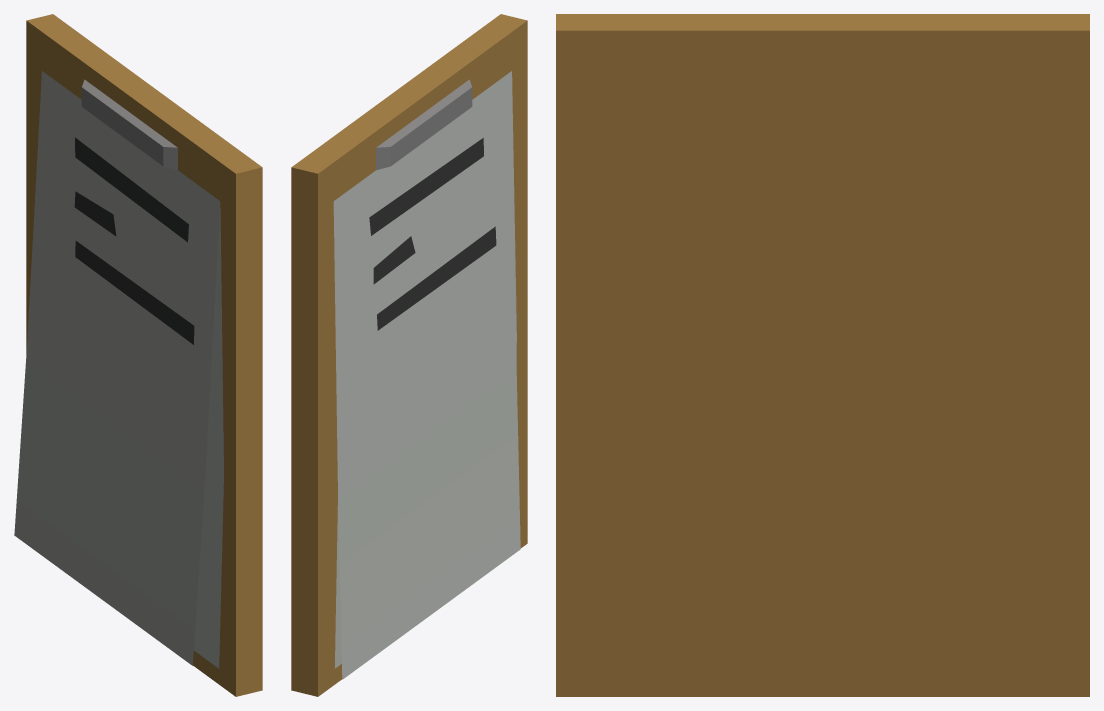
Rendered from Clipboard.glb.
3 views of the same model, side by side, from view 1: azimuth 30°, elevation 25°; view 2: azimuth 150°, elevation 25°; view 3: azimuth 270°, elevation 25° (orthographic). The views are drawn at different scales.
Visible parts, largest first — view 1: Clipboard; view 2: Clipboard; view 3: Clipboard.
Part boxes in pixels (box(x1,y1,x2,y2)): Clipboard: box(14, 14, 262, 696); Clipboard: box(291, 14, 527, 696); Clipboard: box(556, 14, 1089, 696).
Bounding box in the file's own units: 0.0294 × 0.3279 × 0.238.
Materials: 2 (2 with a texture image).
